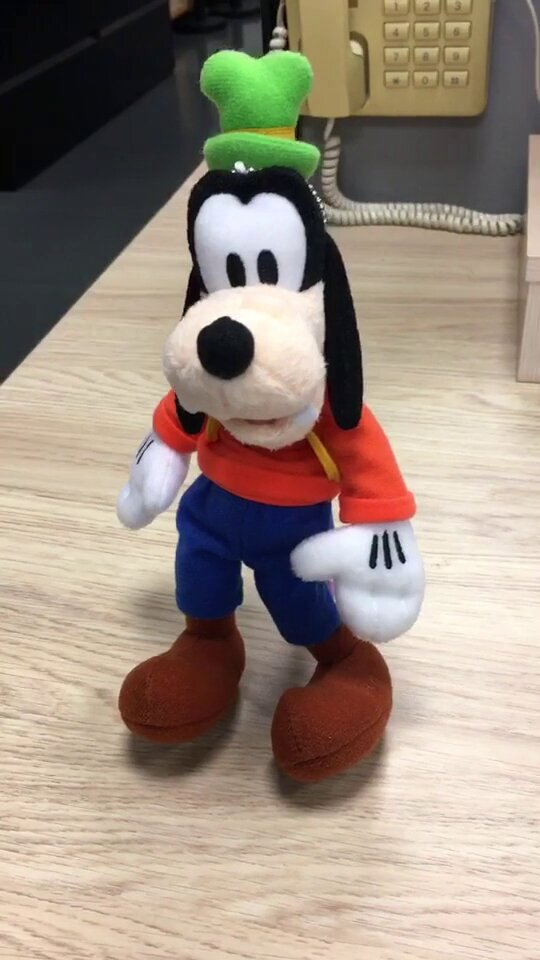goofy: (115, 41, 431, 785)
